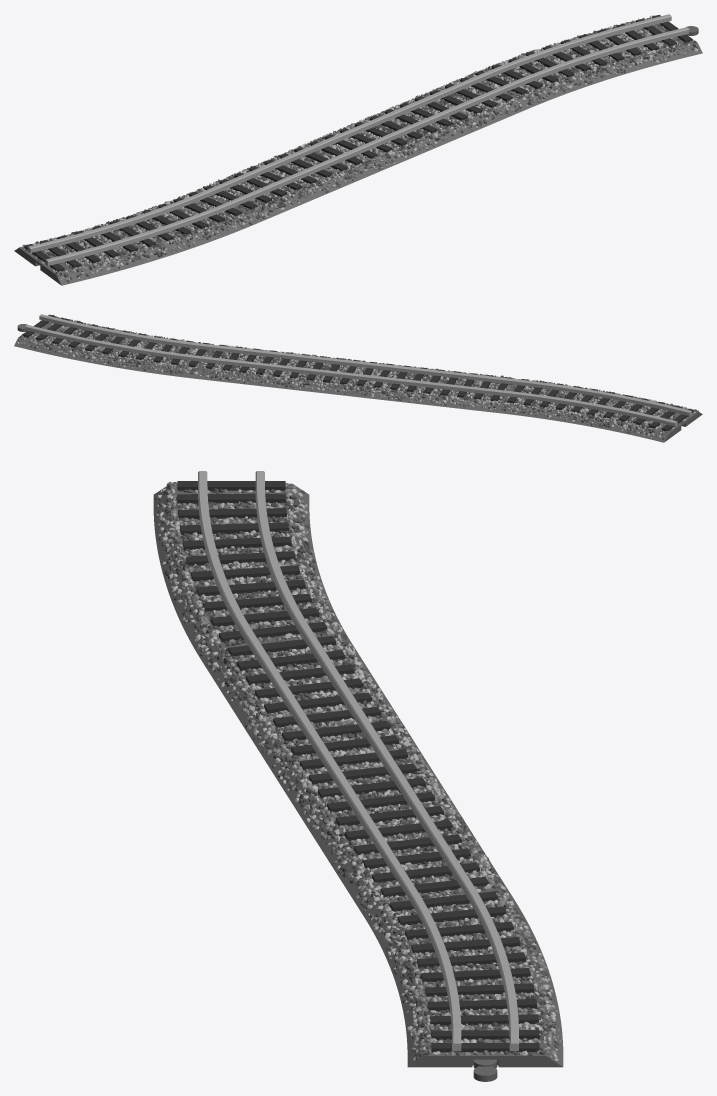
The model's file is Rail_Shift_Left_075.obj.
3 views of the same model, one above another, from view 1: azimuth 30°, elevation 25°; view 2: azimuth 150°, elevation 25°; view 3: azimuth 270°, elevation 25° (orthographic). The views are drawn at different scales.
Visible parts, largest first — view 1: Rail_Shift_Left_075; view 2: Rail_Shift_Left_075; view 3: Rail_Shift_Left_075.
Boxes of the visible parts, x1,y1,x2,y2 form: Rail_Shift_Left_075: (14, 14, 702, 285); Rail_Shift_Left_075: (14, 314, 702, 442); Rail_Shift_Left_075: (153, 471, 563, 1081).
Bounding box in the file's own units: 4.1 × 0.0802 × 1.21.
1 material, 1 textured.
